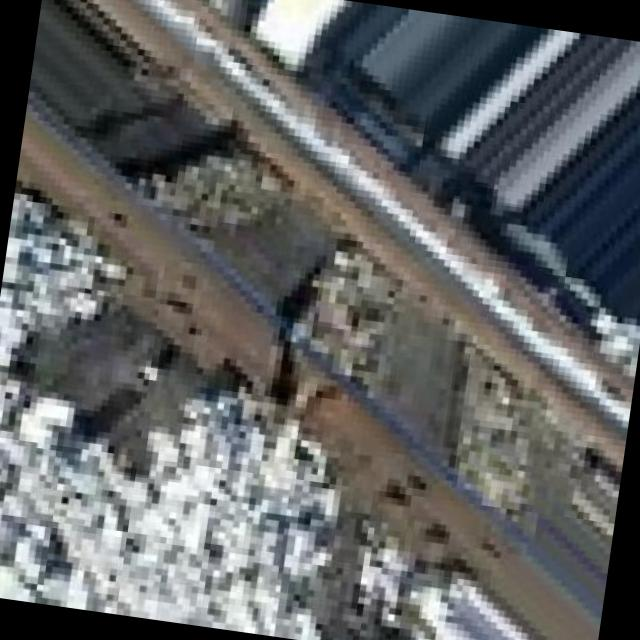defective: (146, 262, 383, 487)
